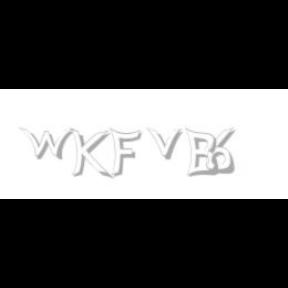6: (206, 128, 234, 176)
B: (185, 128, 219, 178)
F: (109, 128, 141, 178)
K: (70, 128, 110, 180)
v: (146, 128, 186, 160)
w: (20, 128, 78, 160)
